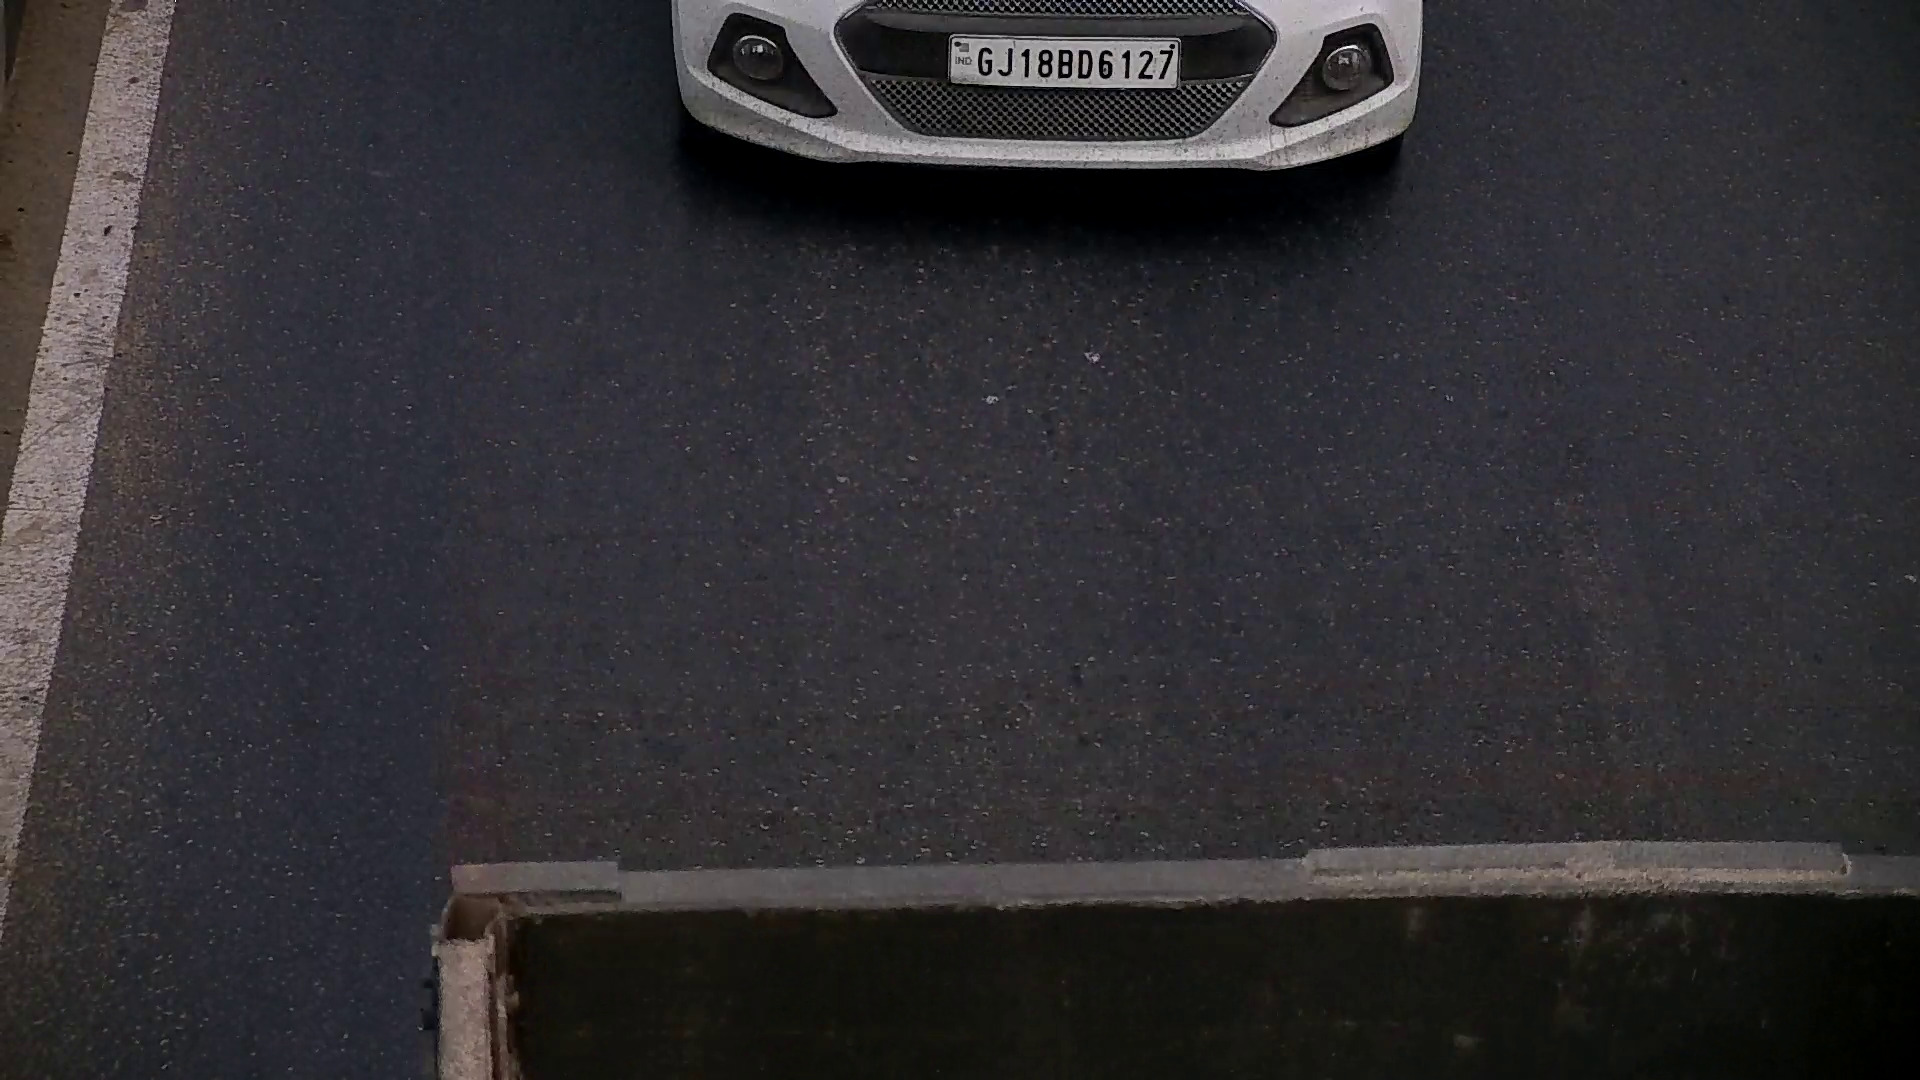numberplate: (943, 26, 1184, 96)
